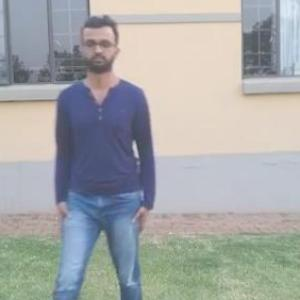follow: (49, 16, 151, 299)
